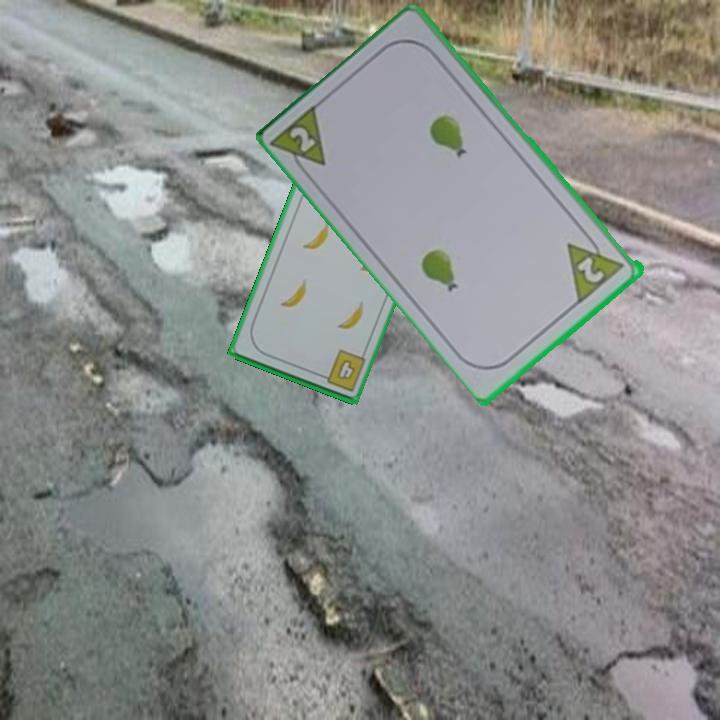2p: (574, 253, 608, 286), (286, 122, 319, 156)
4b: (315, 346, 369, 394)
